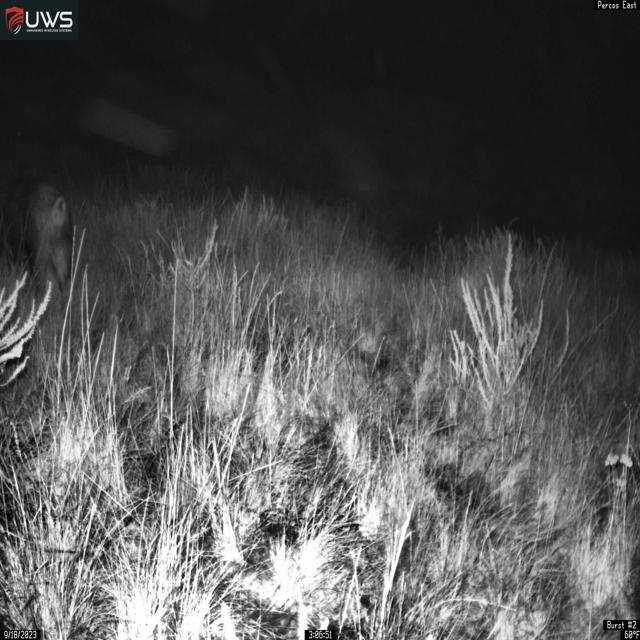pig: (1, 178, 75, 308)
